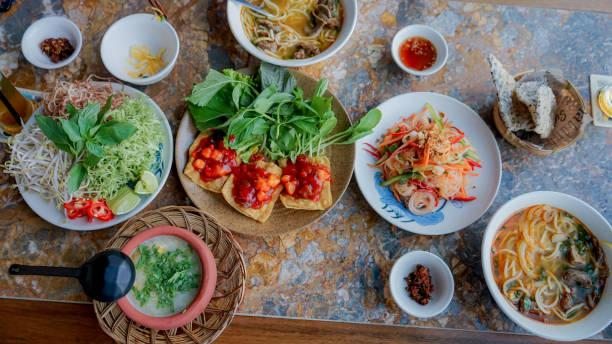Braised Crucian Carp: (176, 64, 353, 240), (11, 80, 173, 229), (86, 210, 253, 344), (352, 89, 502, 234), (481, 190, 611, 339), (224, 0, 359, 67)
